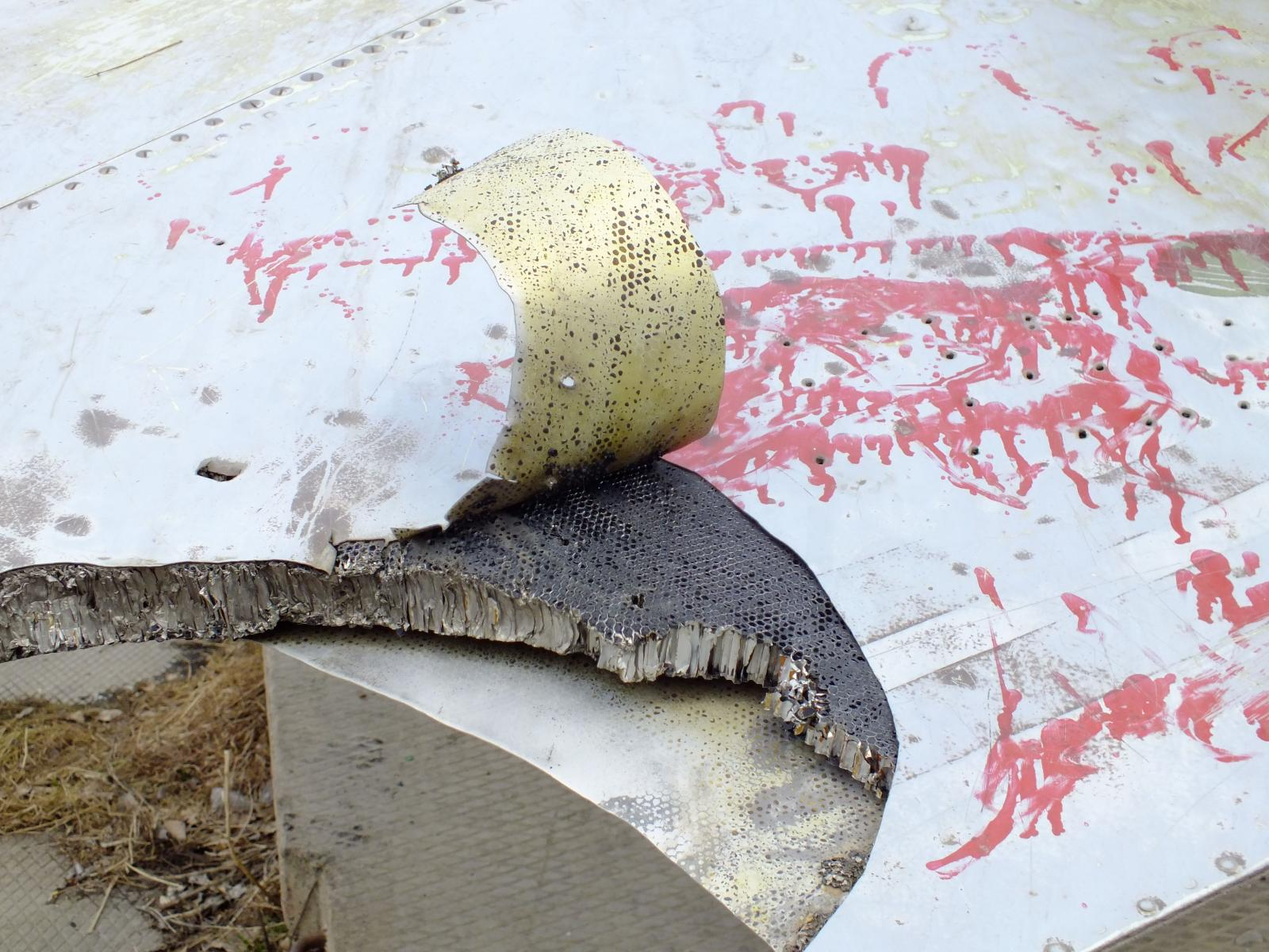Skin_Cover: (417, 130, 725, 523)
Wing_damage: (0, 459, 898, 797)
